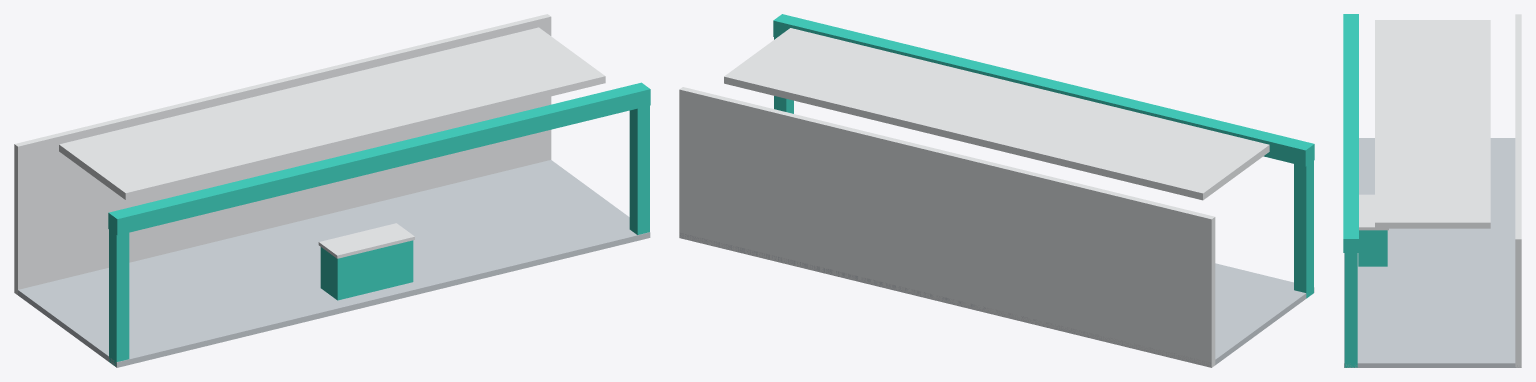
3 views of the same model, side by side, from view 1: azimuth 30°, elevation 25°; view 2: azimuth 150°, elevation 25°; view 3: azimuth 270°, elevation 25° (orthographic). The views are drawn at different scales.
Visible parts, largest first — view 1: Exhibition Booth Concept; view 2: Exhibition Booth Concept; view 3: Exhibition Booth Concept.
Boxes of the visible parts, left/top/right/bottom form: Exhibition Booth Concept: left=14, top=14, right=650, bottom=367; Exhibition Booth Concept: left=679, top=14, right=1314, bottom=367; Exhibition Booth Concept: left=1343, top=14, right=1521, bottom=367.
Bounding box in the file's own units: 12 × 3.34 × 4.02.
